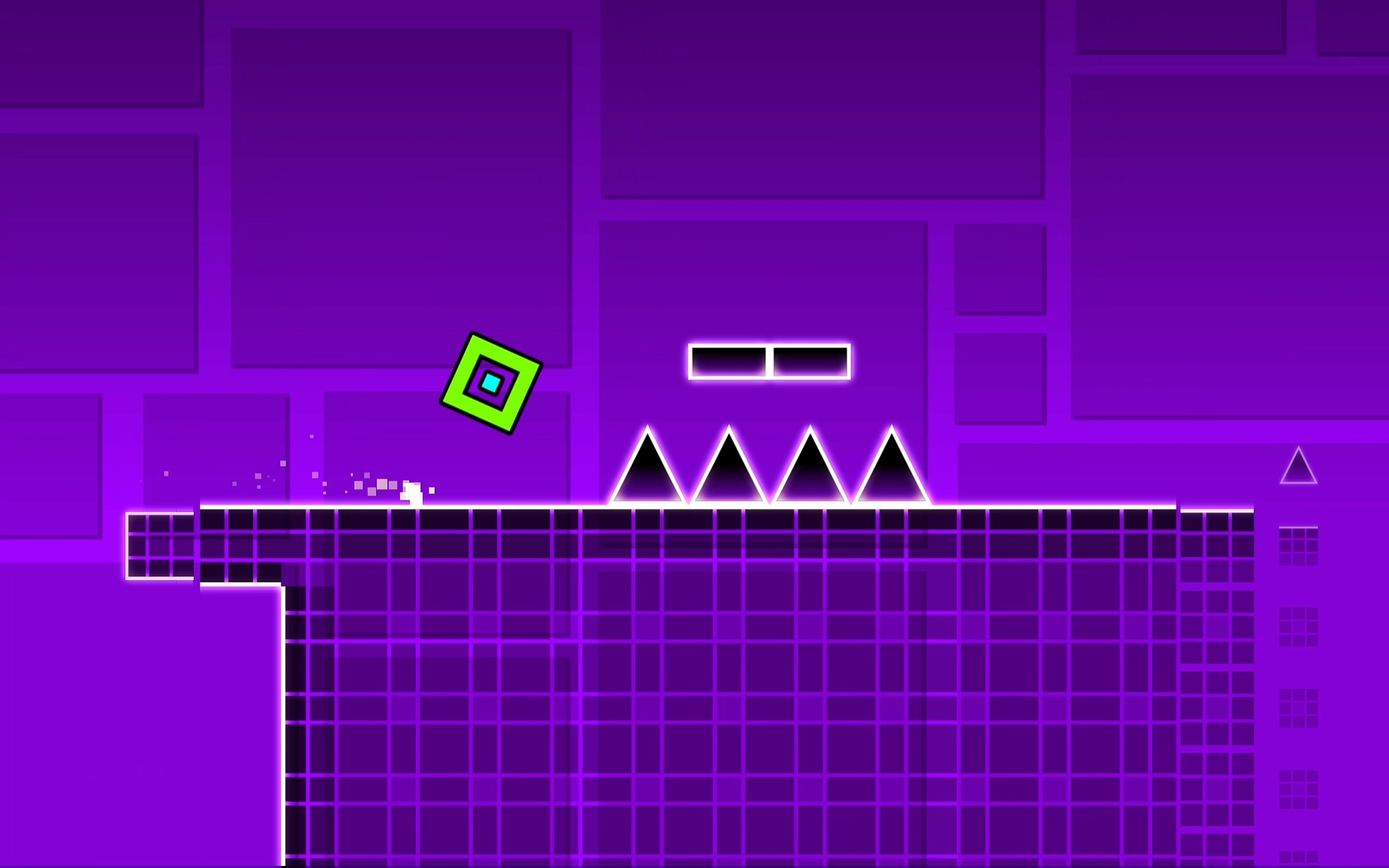Block2: (279, 505, 1250, 827), (123, 509, 280, 583)
Block3: (684, 343, 851, 380)
Player: (441, 334, 544, 435)
Spike: (612, 429, 687, 504), (856, 428, 927, 505), (775, 429, 847, 504), (693, 429, 764, 504), (1281, 449, 1320, 486)
